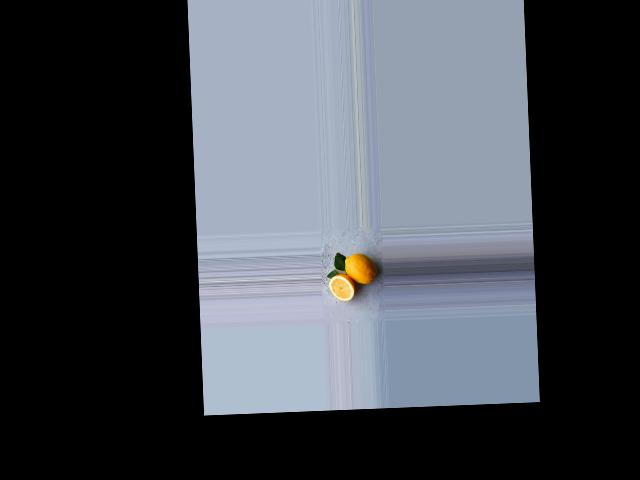lemon: (341, 250, 377, 284)
